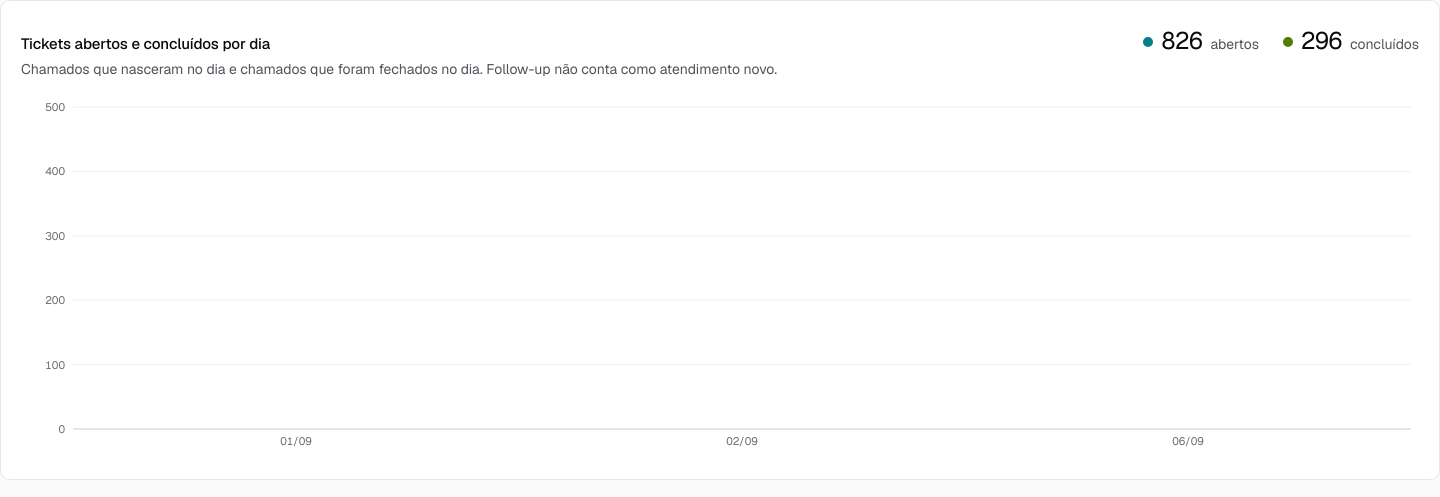
Test case: TicketsAbertosConcluidos › desligar as duas séries cai num estado que o próprio usuário desfaz
Step 1. Click the button with aria-label "abertos:" → (1201, 41), box [1135, 21, 1267, 61]
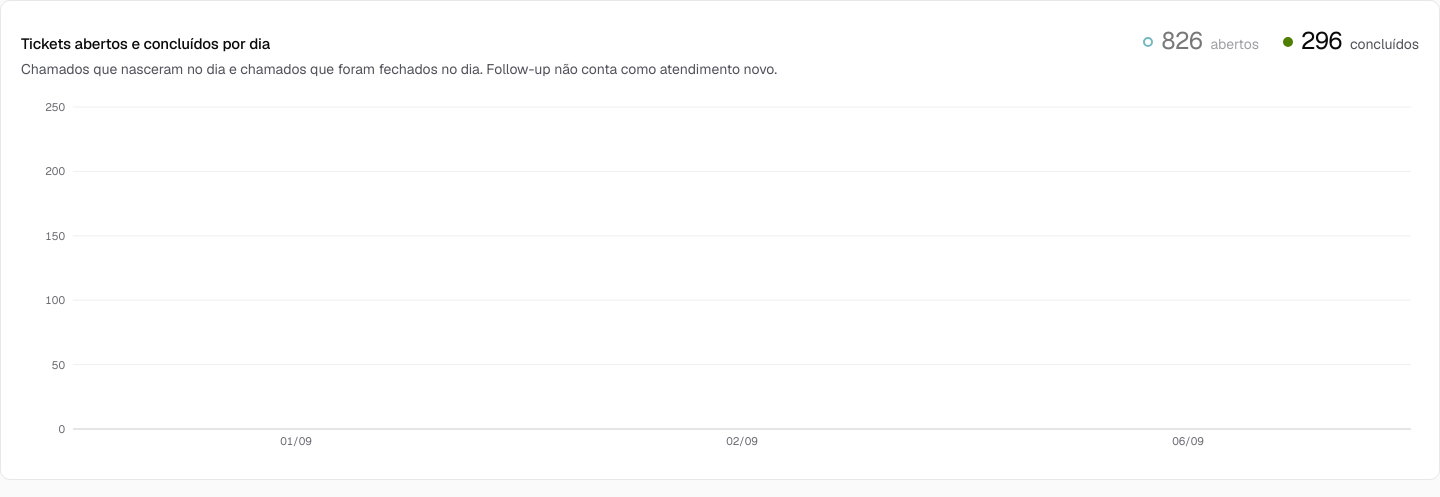
Step 2. Click the button with aria-label "concluídos:" → (1351, 41), box [1275, 21, 1427, 61]
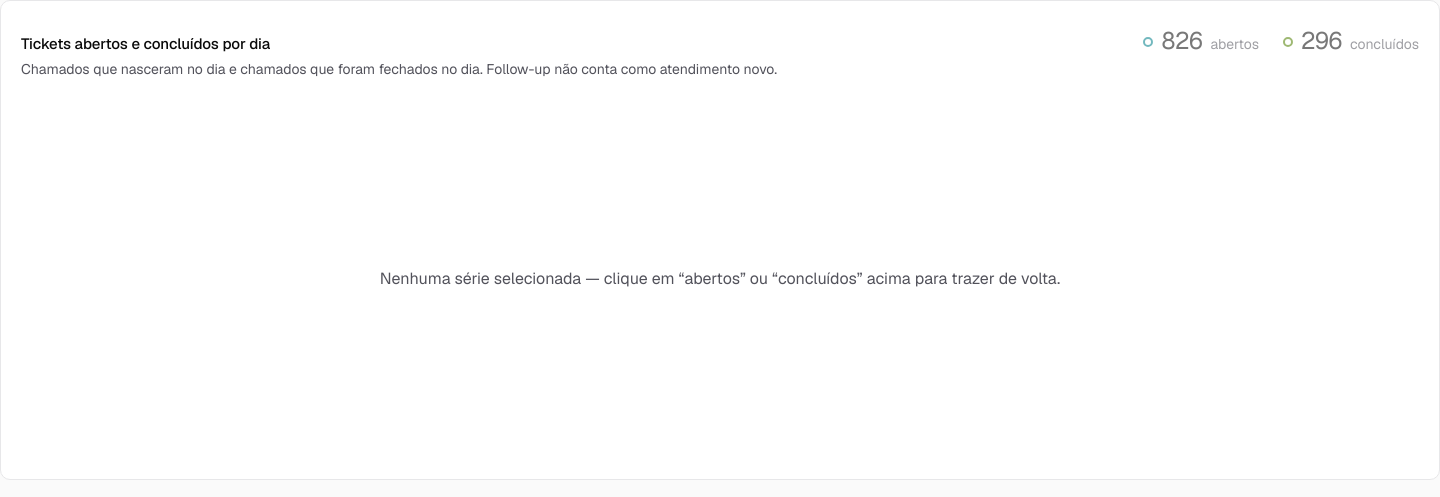
Check: the button with aria-label "abertos:" is shown, box [1135, 21, 1267, 61]
Check: the text "Nenhuma série selecionada" is shown, box [380, 268, 1060, 289]
